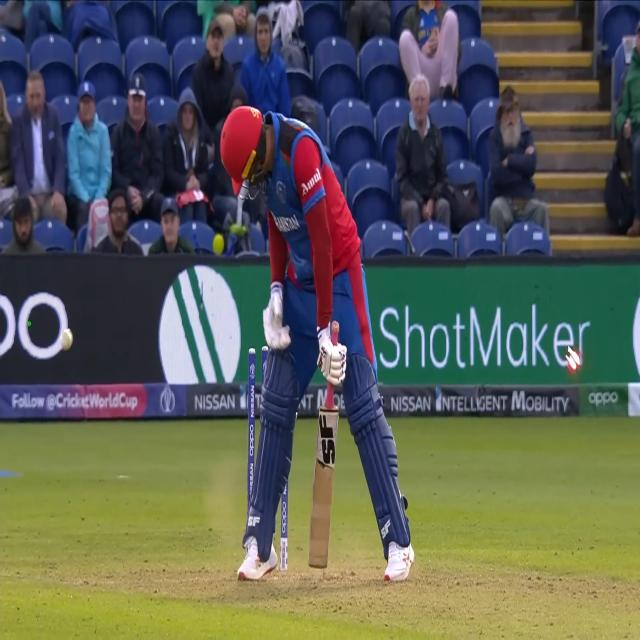ball: (55, 325, 79, 349)
